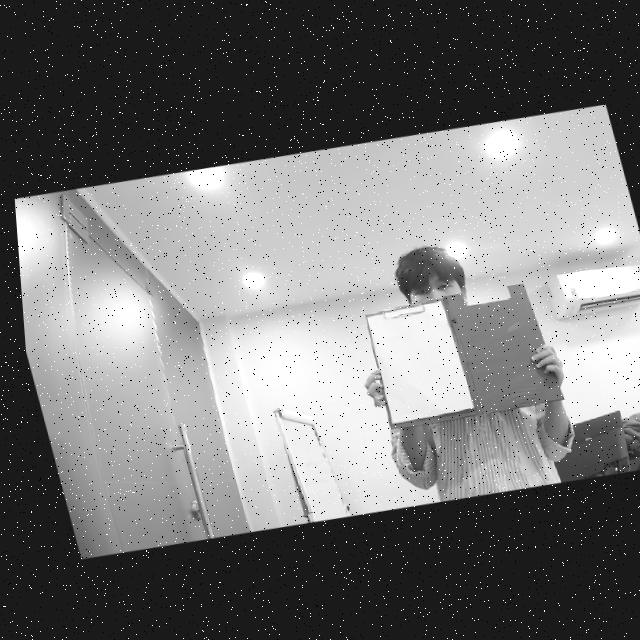face: (394, 254, 470, 309)
